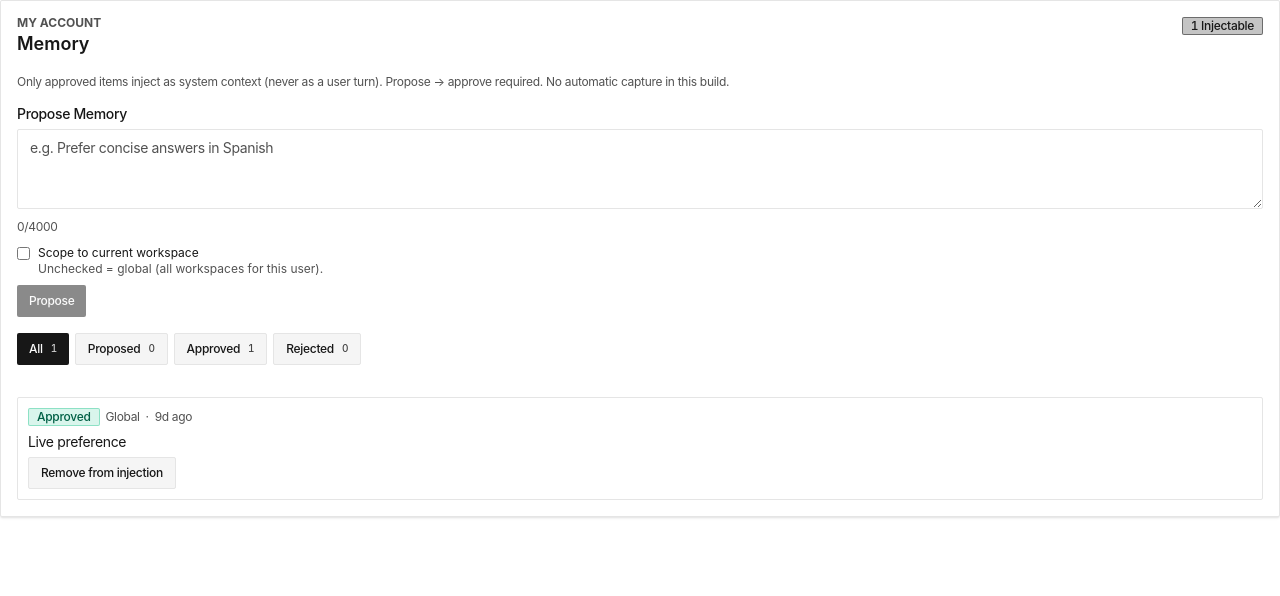
Test: UserMemoryPanel › switches to Rejected when soft-remove empties the Approved filter
Check: the text "Live preference" is shown, box x1=28 y1=432 x2=126 y2=450
Click the button "Approved 1".
click(220, 348)  # box x1=174 y1=332 x2=267 y2=364
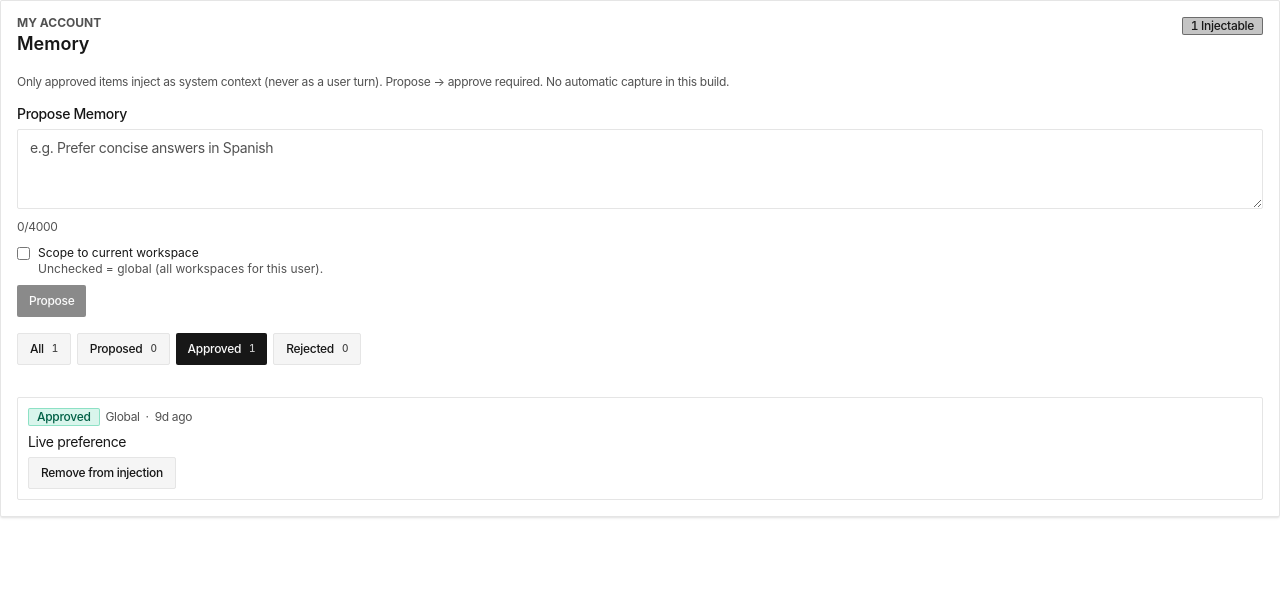
Check: the text "Live preference" is shown, box x1=28 y1=432 x2=126 y2=450
Click the button "Remove from injection".
click(102, 473)  # box x1=28 y1=457 x2=176 y2=489
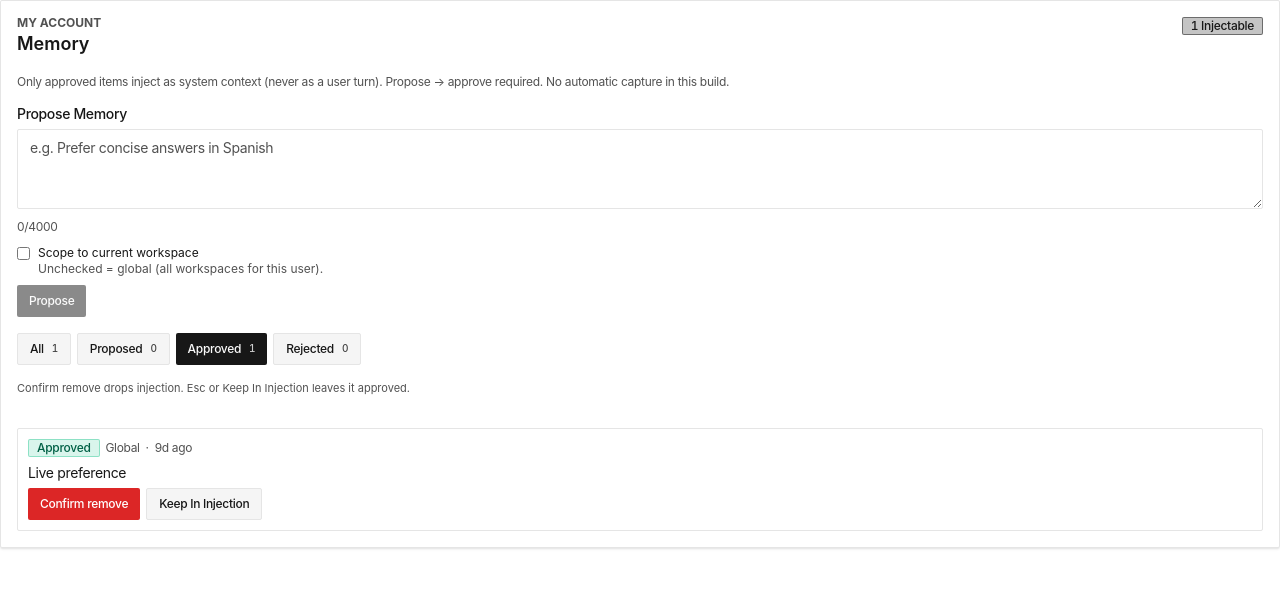
Click the button "Confirm remove".
click(84, 504)  # box x1=28 y1=488 x2=140 y2=520
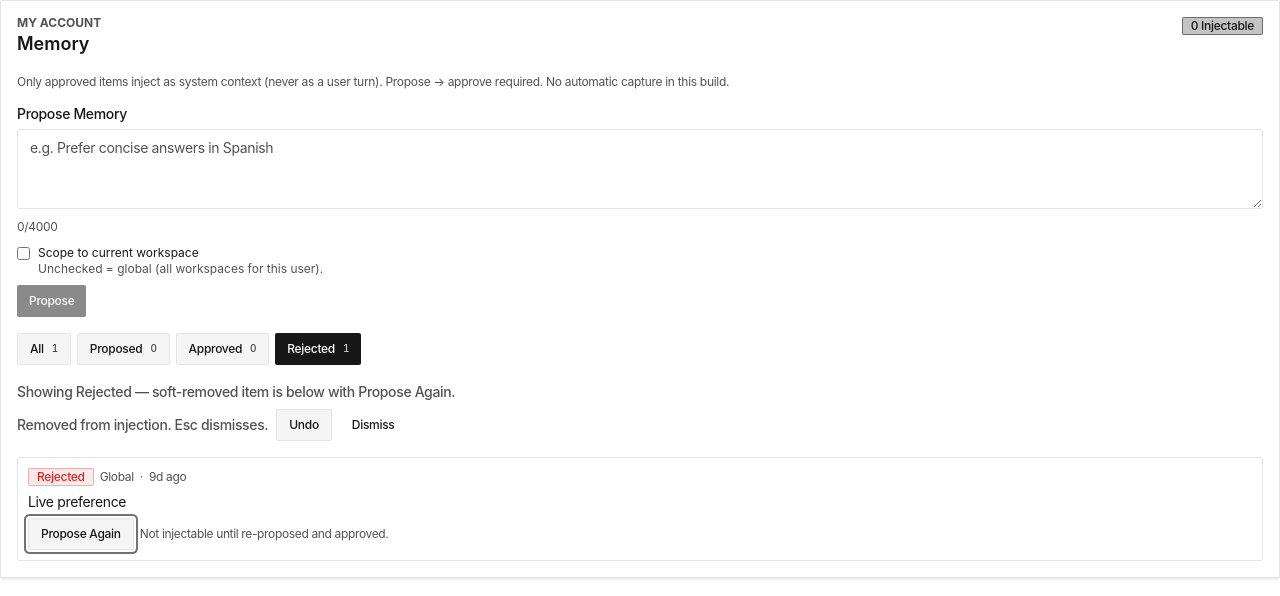
Check: the text "Removed from injection. Esc dismisses." is shown, box x1=17 y1=414 x2=268 y2=437
Check: the button "Propose Again" is shown, box x1=28 y1=518 x2=134 y2=550
Check: the text "Showing Rejected — soft-removed item is below with Propose Again." is shown, box x1=17 y1=382 x2=455 y2=400
Press Escape
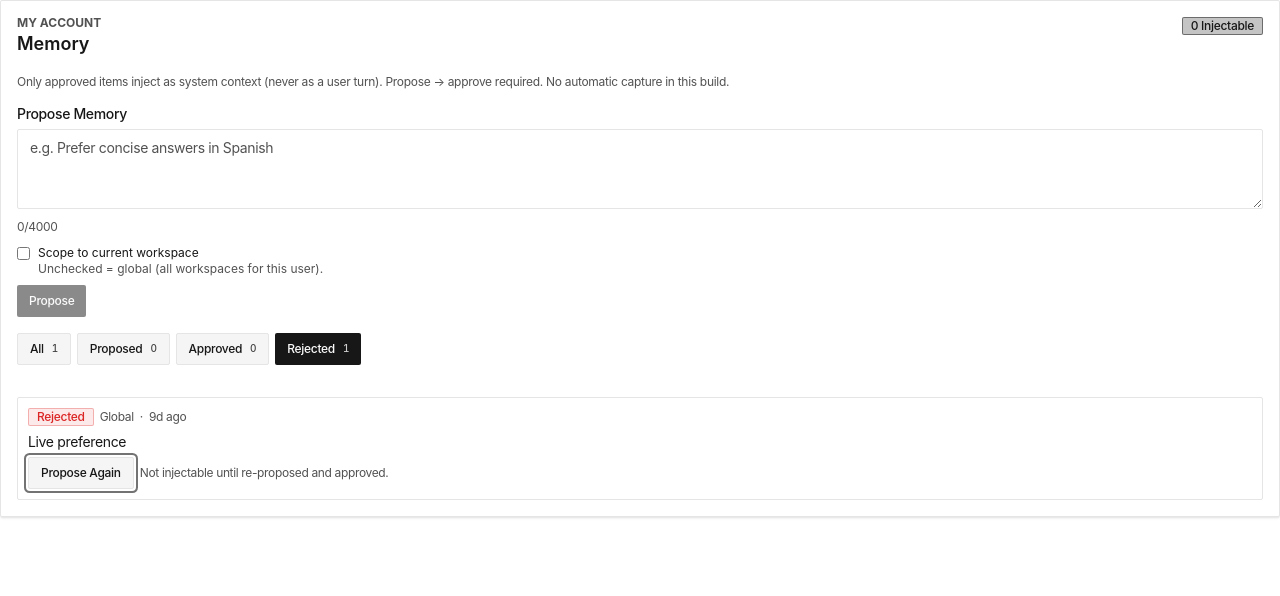
Check: the text "Removed from injection" is gone
Check: the text "Showing Rejected — soft-removed item is below with Propose Again" is gone
